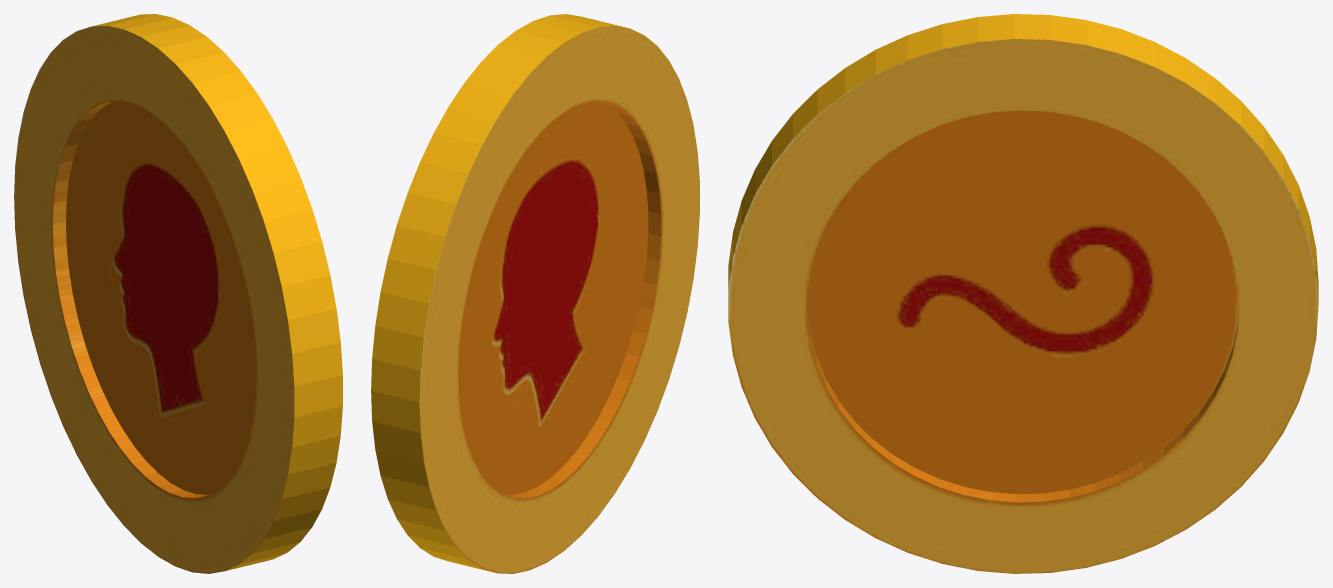
The model's file is goldencoininset.glb.
3 views of the same model, side by side, from view 1: azimuth 30°, elevation 25°; view 2: azimuth 150°, elevation 25°; view 3: azimuth 270°, elevation 25° (orthographic). The views are drawn at different scales.
Visible parts, largest first — view 1: Cylinder; view 2: Cylinder; view 3: Cylinder.
Part boxes in pixels (x1,y1,x2,y2): Cylinder: [14, 14, 342, 573]; Cylinder: [371, 14, 699, 573]; Cylinder: [728, 14, 1318, 573].
Size of the model in its own units: 0.2 by 2 by 2.
Materials: 3 (2 with a texture image).
